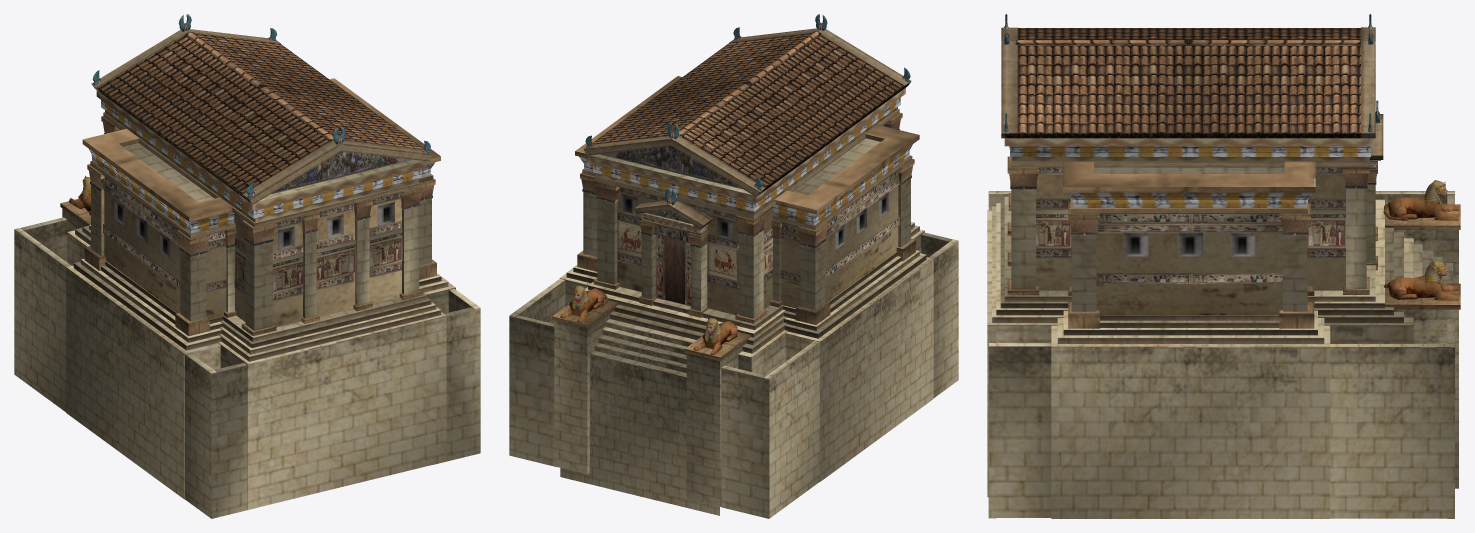
Rendered from s_ptolemies_library.glb.
3 renders of one model, left to right at view 1: azimuth 30°, elevation 25°; view 2: azimuth 150°, elevation 25°; view 3: azimuth 270°, elevation 25°, orthographic. The views are drawn at different scales.
Visible parts, largest first — view 1: s_ptolemies_library_part0, s_ptolemies_library_part1, s_ptolemies_library_part2; view 2: s_ptolemies_library_part0, s_ptolemies_library_part1, s_ptolemies_library_part2, s_ptolemies_library_part3; view 3: s_ptolemies_library_part0, s_ptolemies_library_part1, s_ptolemies_library_part3.
Part boxes in pixels (x1,y1,x2,y2): s_ptolemies_library_part0: (14,14,480,518); s_ptolemies_library_part1: (97,32,431,204); s_ptolemies_library_part2: (270,151,412,194); s_ptolemies_library_part0: (509,14,958,518); s_ptolemies_library_part1: (584,31,911,196); s_ptolemies_library_part2: (600,146,743,223); s_ptolemies_library_part3: (560,285,737,354); s_ptolemies_library_part0: (987,14,1460,518); s_ptolemies_library_part1: (1001,28,1375,138); s_ptolemies_library_part3: (1383,180,1458,300).
Bounding box in the file's own units: 3.52 × 4.51 × 4.5.
Materials: 4 (4 with a texture image).
